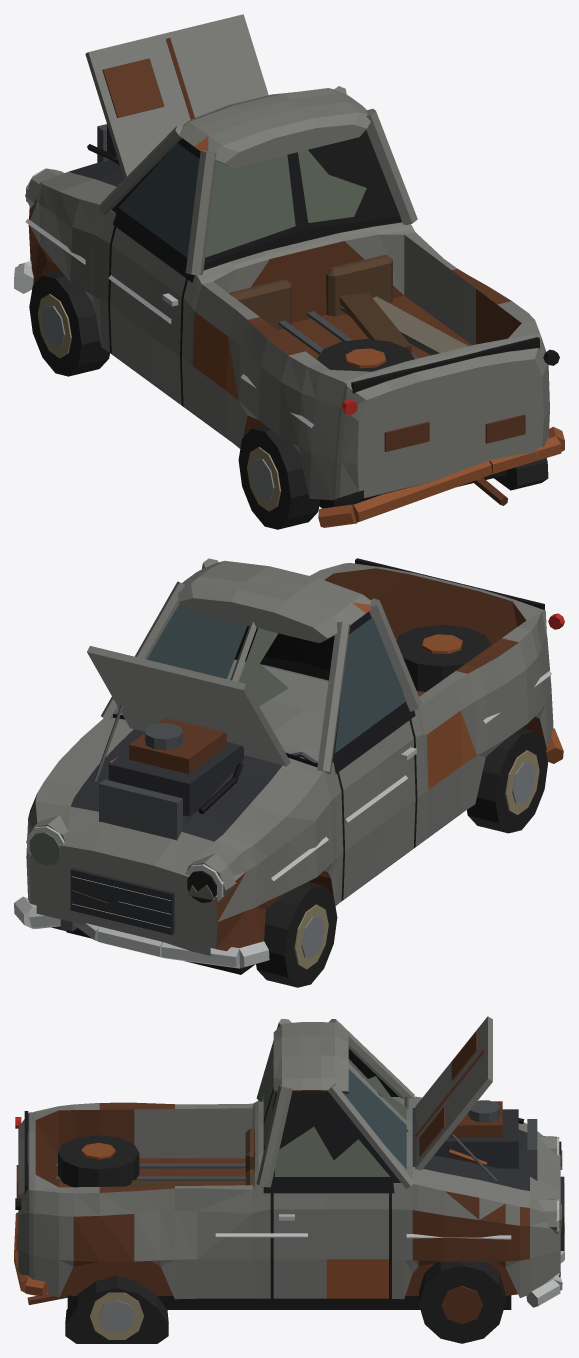
Rendered from car_pickup_grey.fbx.
The picture shows the model from 3 angles, top to bottom: view 1: azimuth 30°, elevation 25°; view 2: azimuth 150°, elevation 25°; view 3: azimuth 270°, elevation 25°; orthographic projection. The views are drawn at different scales.
Parts seen in each view (by area): view 1: car_pickup_grey; view 2: car_pickup_grey; view 3: car_pickup_grey.
Part boxes in pixels (left/top/right/bottom): car_pickup_grey: left=14, top=14, right=564, bottom=529; car_pickup_grey: left=14, top=558, right=564, bottom=987; car_pickup_grey: left=14, top=1016, right=564, bottom=1343.
Bounding box in the file's own units: 1.99 × 2.21 × 4.47.
